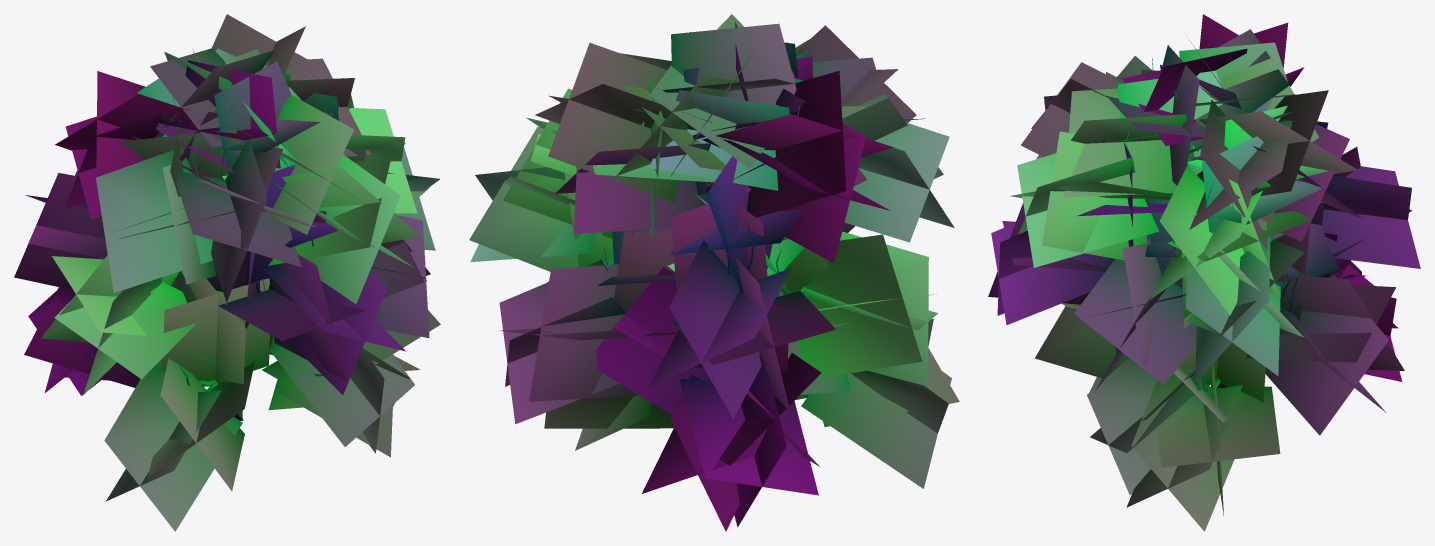
The model's file is M_P1_Tree_12.fbx.
3 renders of one model, left to right at view 1: azimuth 30°, elevation 25°; view 2: azimuth 150°, elevation 25°; view 3: azimuth 270°, elevation 25°, orthographic. The views are drawn at different scales.
Visible parts, largest first — view 1: M_Tree_1_12; view 2: M_Tree_1_12; view 3: M_Tree_1_12.
Part boxes in pixels (<box>): M_Tree_1_12: <box>14,14,440,531</box>; M_Tree_1_12: <box>469,14,959,531</box>; M_Tree_1_12: <box>988,14,1420,531</box>.
Size of the model in its own units: 1016 by 1050 by 981.
